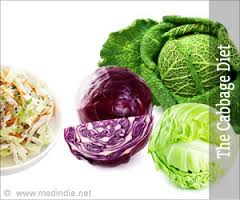cabbage: (154, 102, 231, 192), (78, 68, 155, 143), (159, 35, 227, 98)
